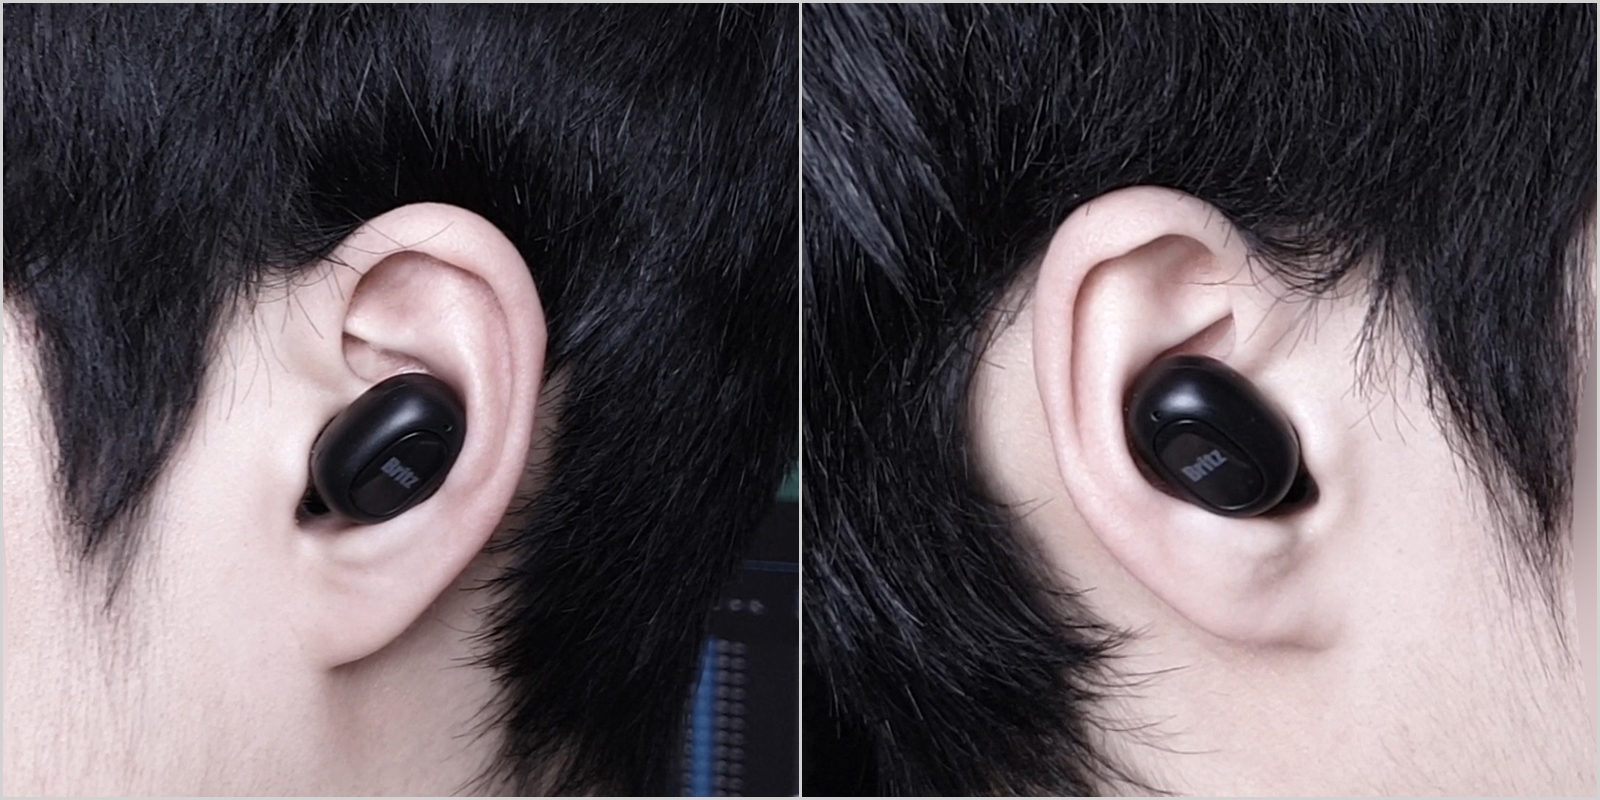earphone: (1030, 187, 1357, 646), (267, 201, 548, 669)
